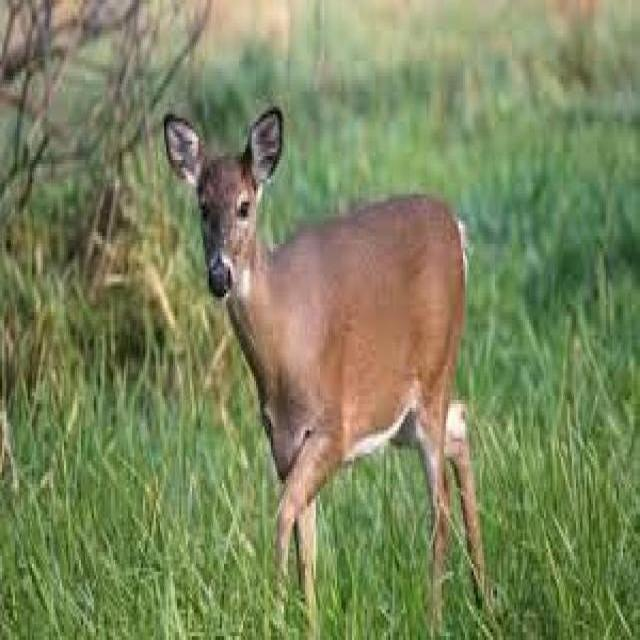deer: (152, 86, 504, 615)
